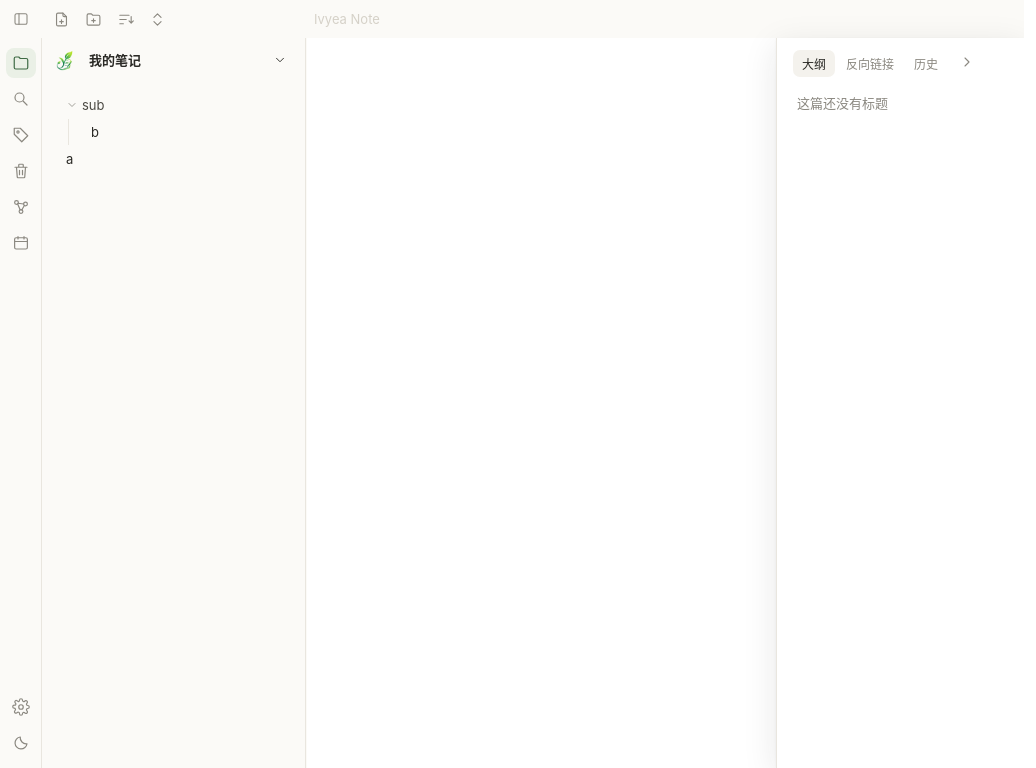
Test: v0.4.0 T3：即时新建（Obsidian 式） › 点新建直接创建 untitled.md 并落盘，全程不调 window.prompt
Check: the text "a" is shown, box [66,151,73,167]
Step 1. Click the button titled "新建笔记" → {"x": 61, "y": 19}, box [46,4,76,34]
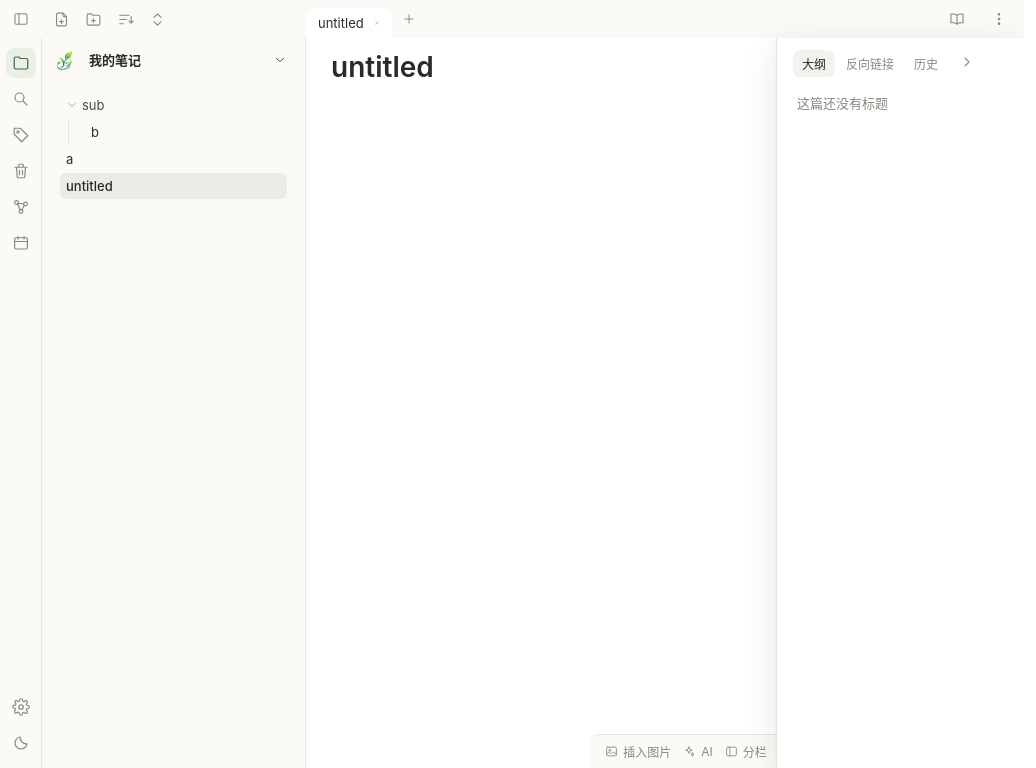
Check: the text box with class "inline-title" holds "untitled", box [307,50,1024,85]
